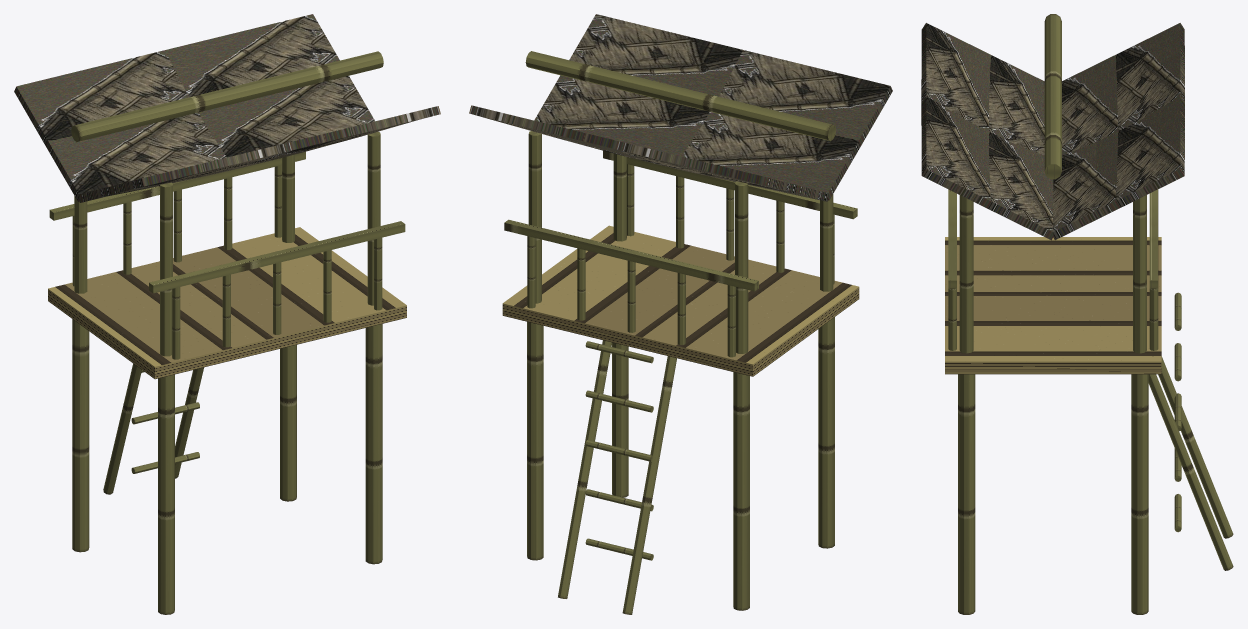
Rendered from dong-lua-choi-canh-ruong.glb.
The picture shows the model from 3 angles, left to right: view 1: azimuth 30°, elevation 25°; view 2: azimuth 150°, elevation 25°; view 3: azimuth 270°, elevation 25°; orthographic projection.
Visible parts, largest first — view 1: dong-lua-choi-canh-ruong; view 2: dong-lua-choi-canh-ruong; view 3: dong-lua-choi-canh-ruong.
Boxes of the visible parts, x1,y1,x2,y2 form: dong-lua-choi-canh-ruong: (14,14,440,614); dong-lua-choi-canh-ruong: (469,14,892,614); dong-lua-choi-canh-ruong: (921,14,1233,614).
Bounding box in the file's own units: 2.05 × 3 × 1.8.
3 materials, 3 textured.
